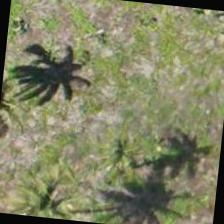Kelapa_Sawit: (70, 107, 169, 206), (21, 162, 117, 224), (0, 41, 54, 136)
